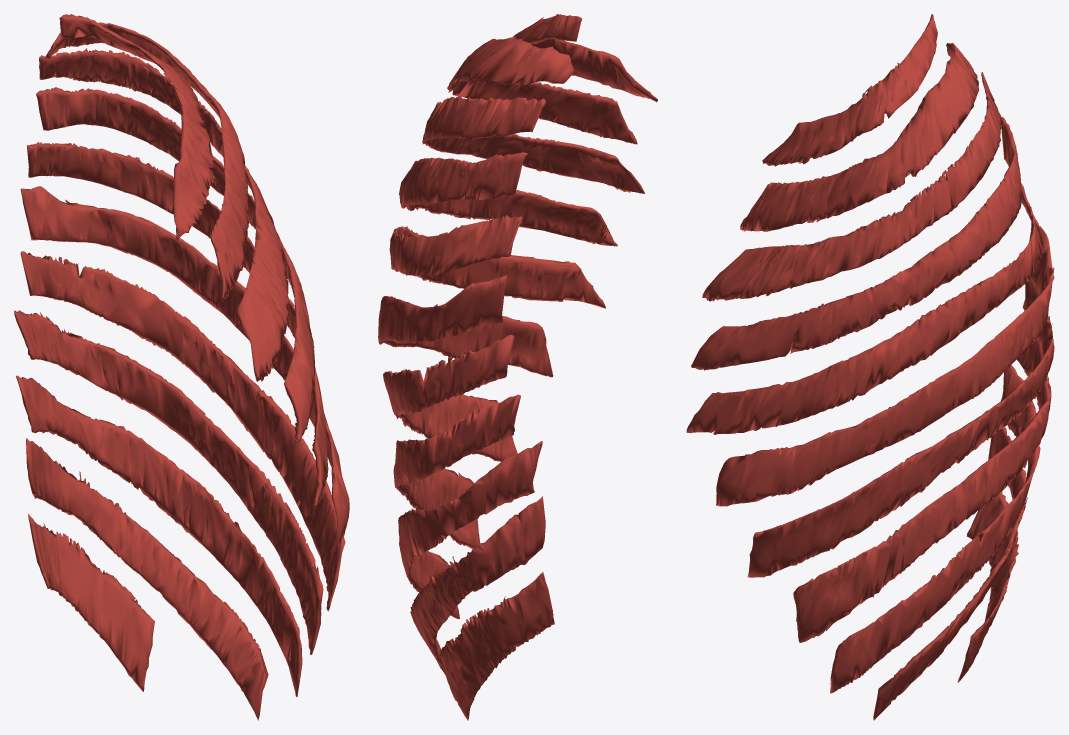
Rendered from musculos-external-intercostal-muscles-l.glb.
The picture shows the model from 3 angles, left to right: view 1: azimuth 30°, elevation 25°; view 2: azimuth 150°, elevation 25°; view 3: azimuth 270°, elevation 25°; orthographic projection. The views are drawn at different scales.
Visible parts, largest first — view 1: External intercostal muscles.l; view 2: External intercostal muscles.l; view 3: External intercostal muscles.l.
Part boxes in pixels (box(x1,y1,x2,y2)): External intercostal muscles.l: box(14, 14, 349, 720); External intercostal muscles.l: box(378, 14, 657, 720); External intercostal muscles.l: box(686, 14, 1054, 720).
Size of the model in its own units: 0.1118 by 0.3722 by 0.1948.
